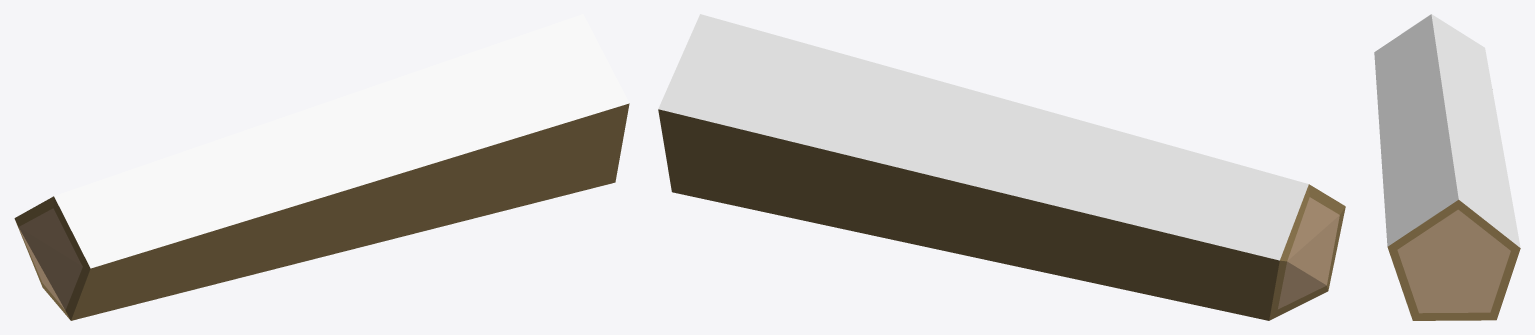
Rendered from Oak_Log_Snow_04_LOD.fbx.
3 renders of one model, left to right at view 1: azimuth 30°, elevation 25°; view 2: azimuth 150°, elevation 25°; view 3: azimuth 270°, elevation 25°, orthographic. The views are drawn at different scales.
Visible parts, largest first — view 1: Oak_Log_Snow_04_LOD0; view 2: Oak_Log_Snow_04_LOD0; view 3: Oak_Log_Snow_04_LOD0.
Part boxes in pixels (x1=…): Oak_Log_Snow_04_LOD0: x1=14, y1=14, x2=629, y2=320; Oak_Log_Snow_04_LOD0: x1=658, y1=14, x2=1345, y2=320; Oak_Log_Snow_04_LOD0: x1=1374, y1=14, x2=1520, y2=320.
Size of what is drawn, in the model's own units: 158 by 40.35 by 44.64.
